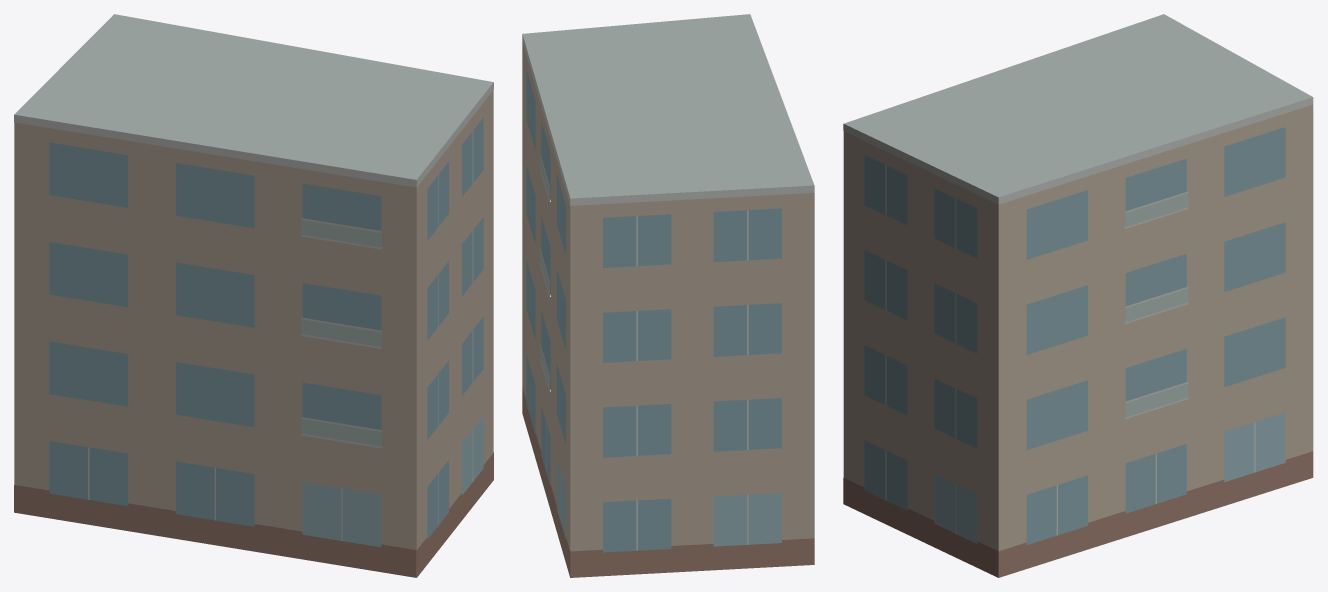
Rendered from survey-upis-33025041.glb.
The picture shows the model from 3 angles, left to right: view 1: azimuth 30°, elevation 25°; view 2: azimuth 150°, elevation 25°; view 3: azimuth 270°, elevation 25°; orthographic projection. The views are drawn at different scales.
Visible parts, largest first — view 1: survey-upis-33025041.tmp; view 2: survey-upis-33025041.tmp; view 3: survey-upis-33025041.tmp.
Part boxes in pixels (x1,y1,x2,y2): survey-upis-33025041.tmp: [14, 14, 493, 577]; survey-upis-33025041.tmp: [522, 14, 814, 577]; survey-upis-33025041.tmp: [843, 14, 1313, 577].
Bounding box in the file's own units: 13.14 × 12.7 × 14.22.
